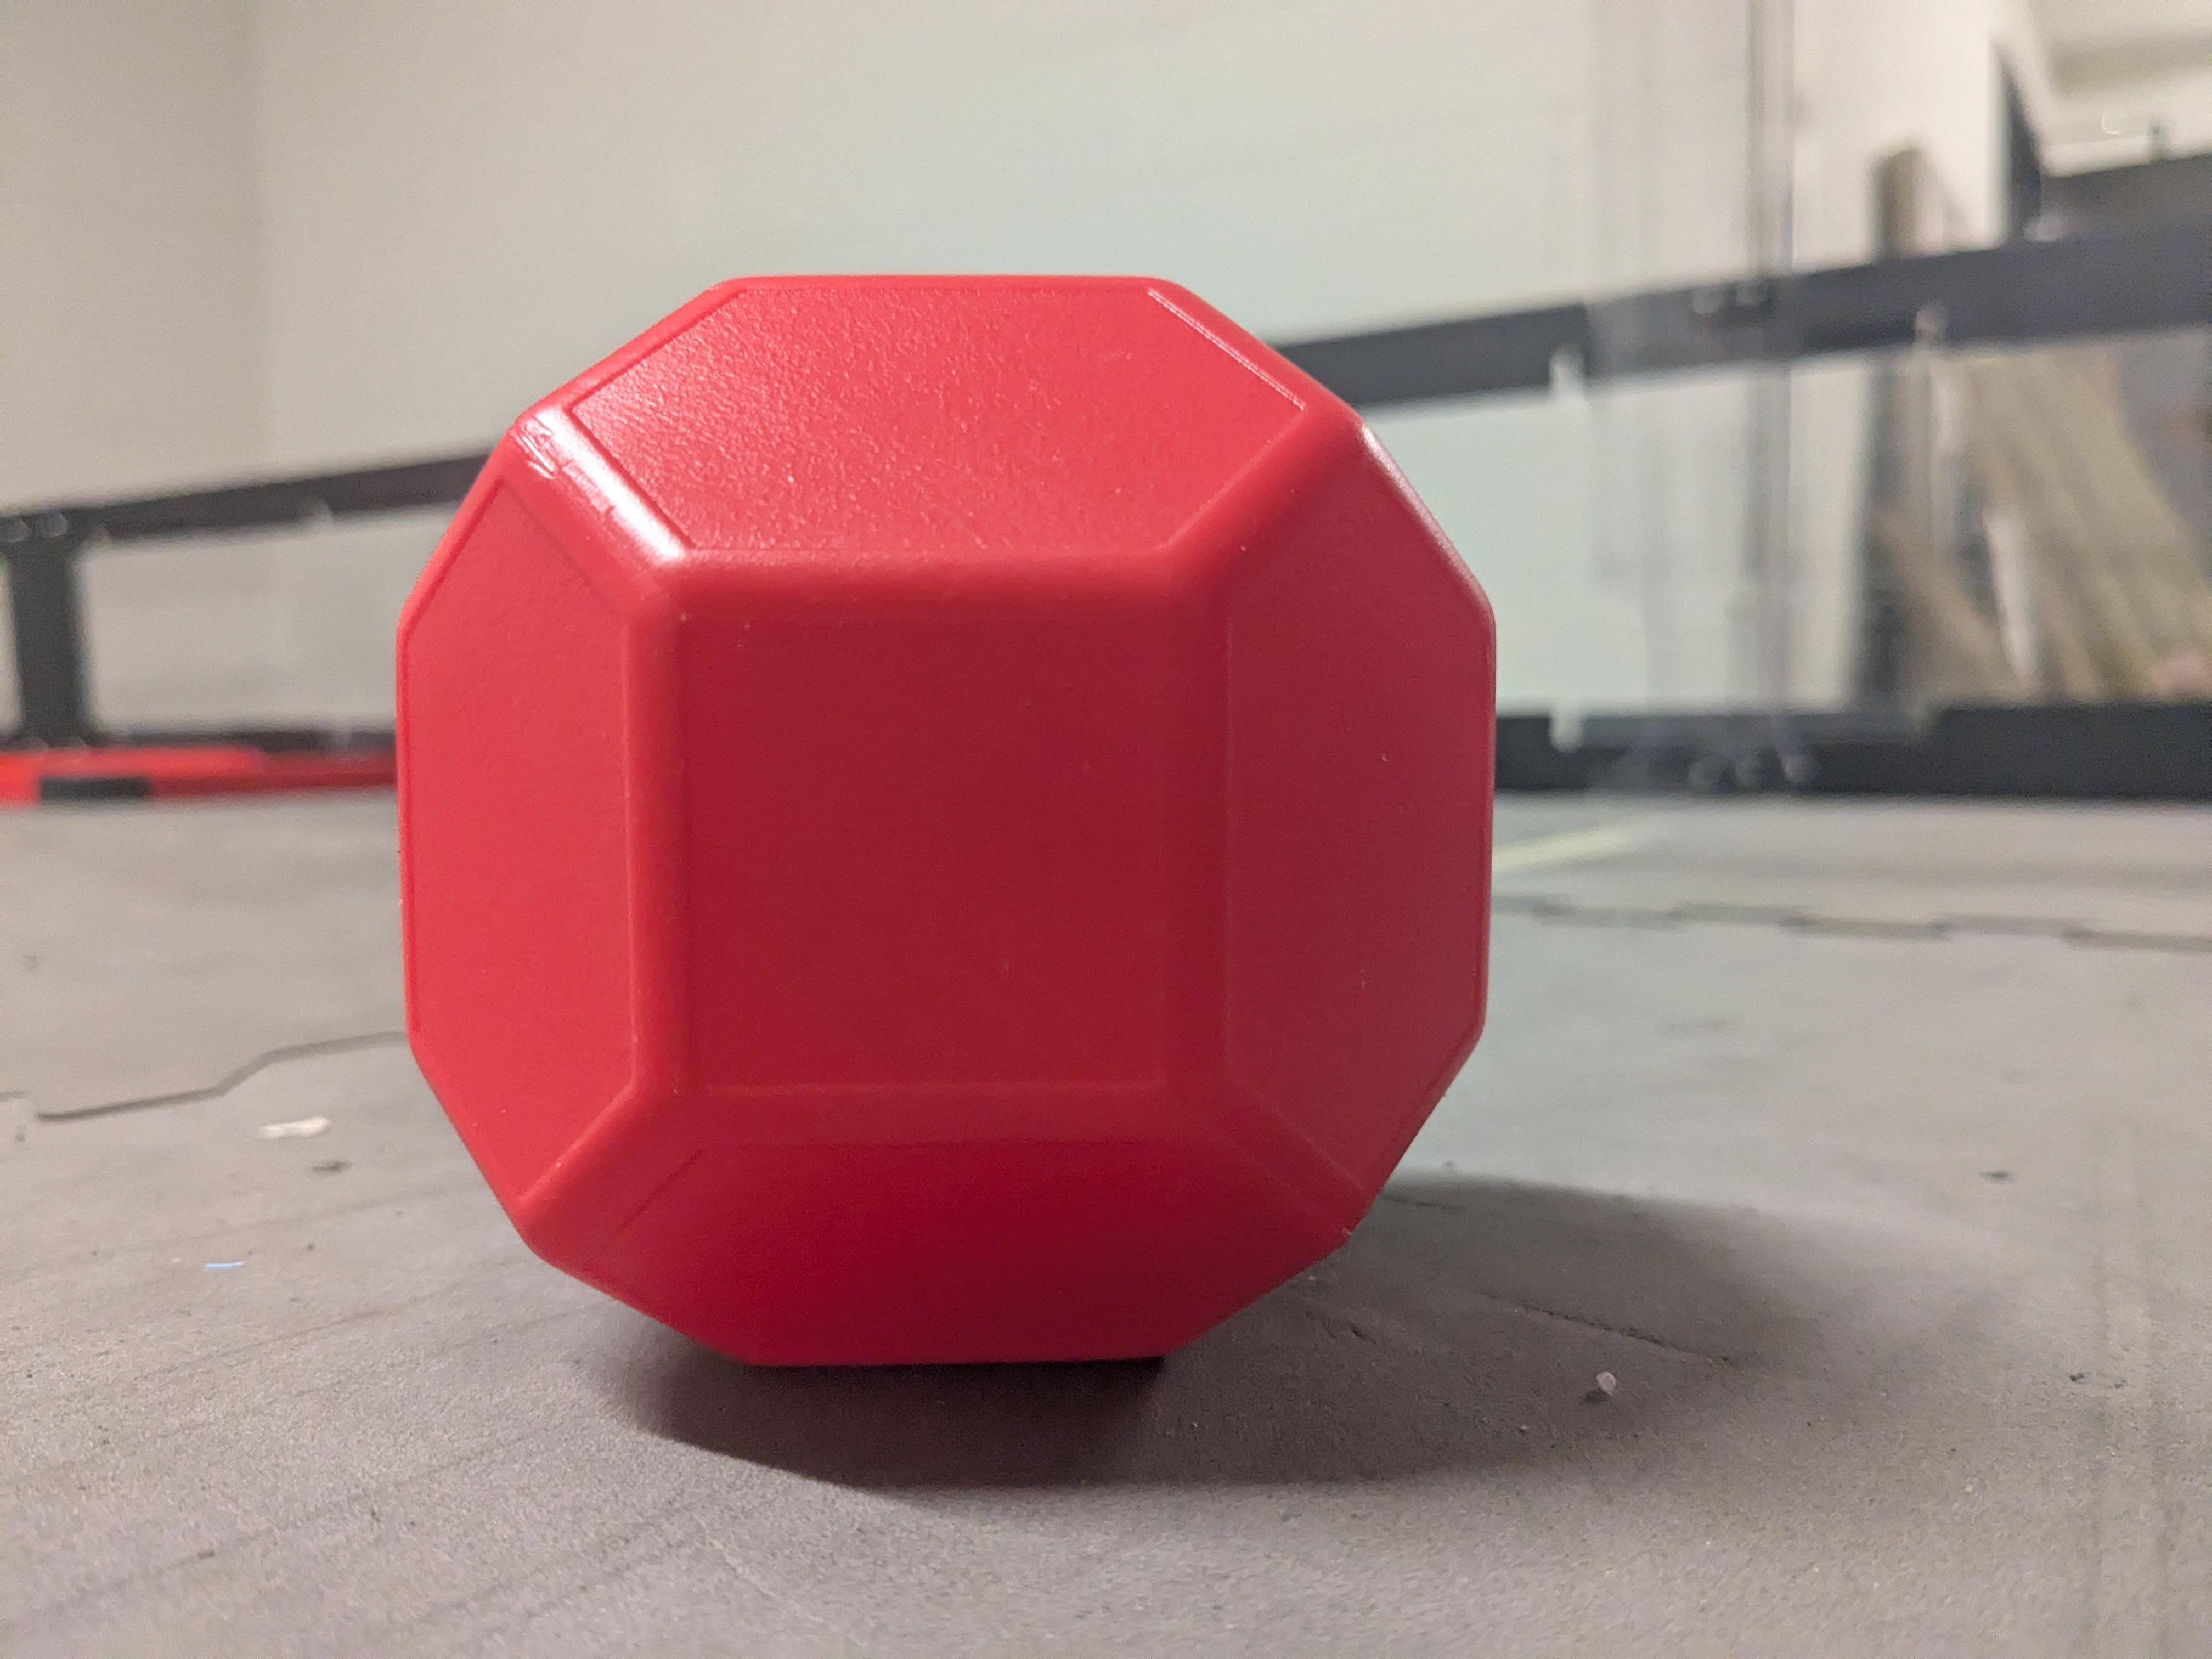Vex-Pieces-RED: (397, 277, 1494, 1363)
